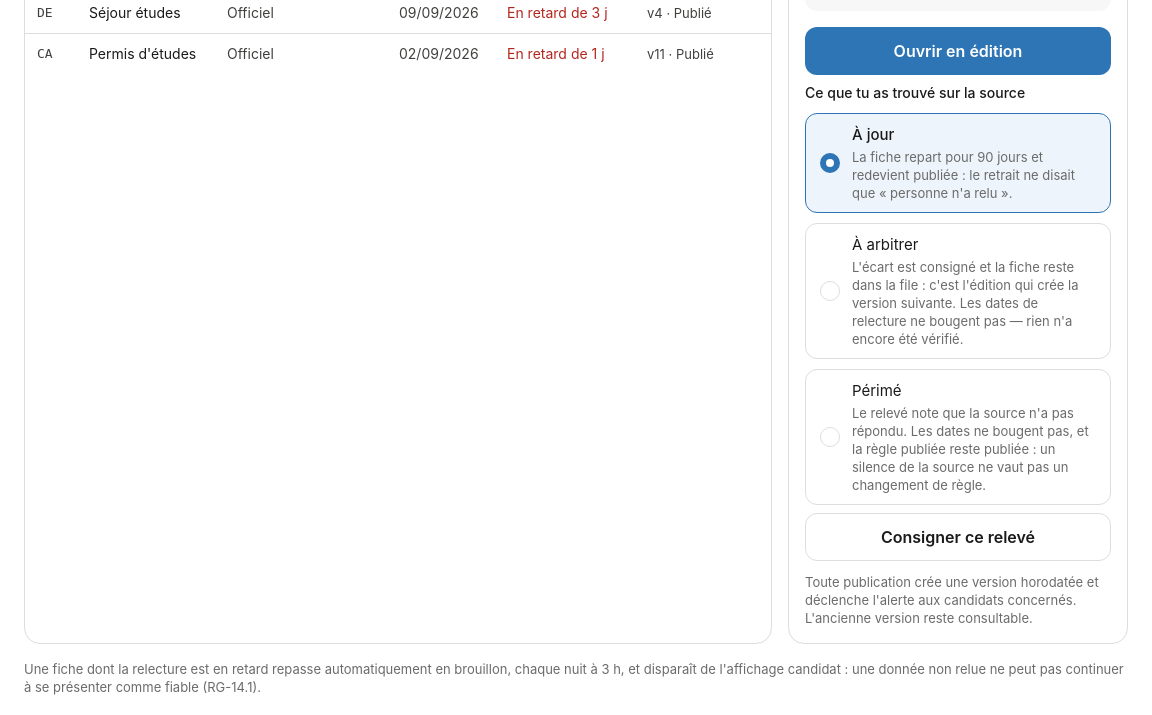
Test case: B-01 — File de veille › un refus s'affiche plutôt que de se perdre
(page scrolled)
Click the button "Consigner ce relevé" at [958, 537], box [805, 513, 1111, 561]
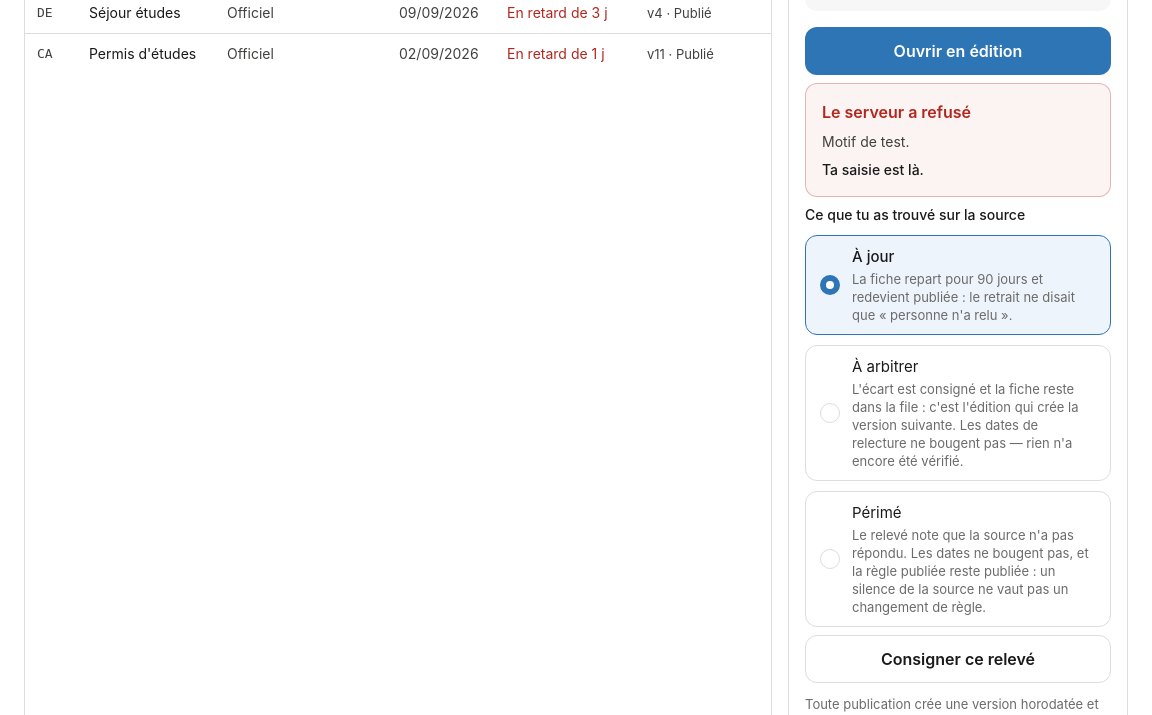
Expected: the text "Le serveur a refusé" is shown, [822, 102, 971, 122]
